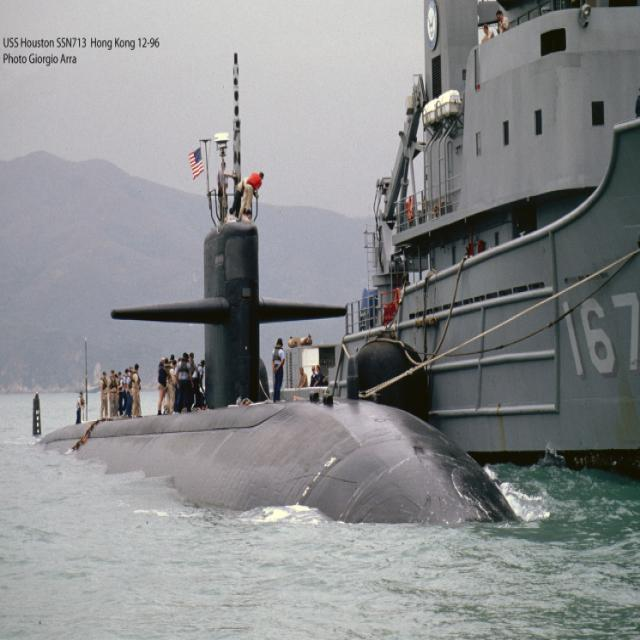submarine: (1, 50, 521, 521)
